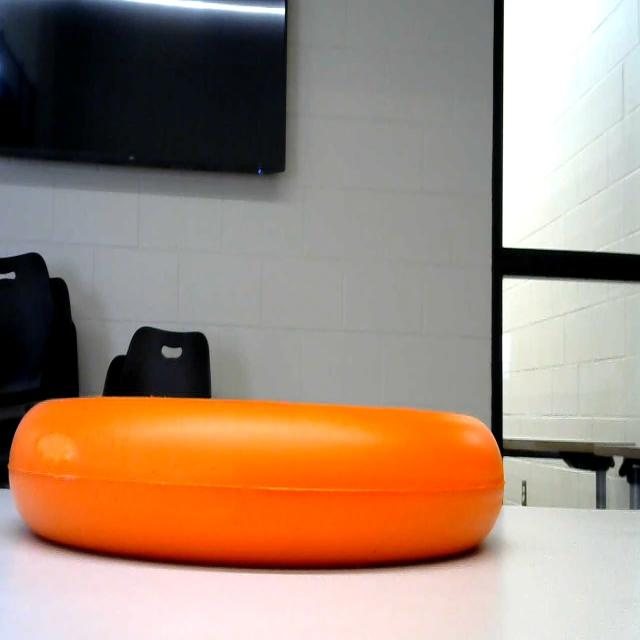note: (0, 389, 511, 580)
